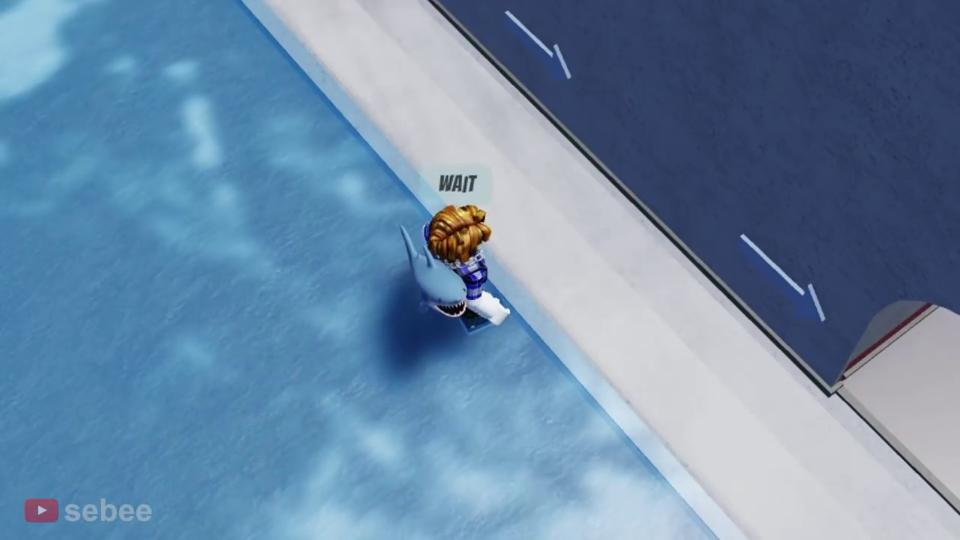Character: (426, 204, 512, 335)
